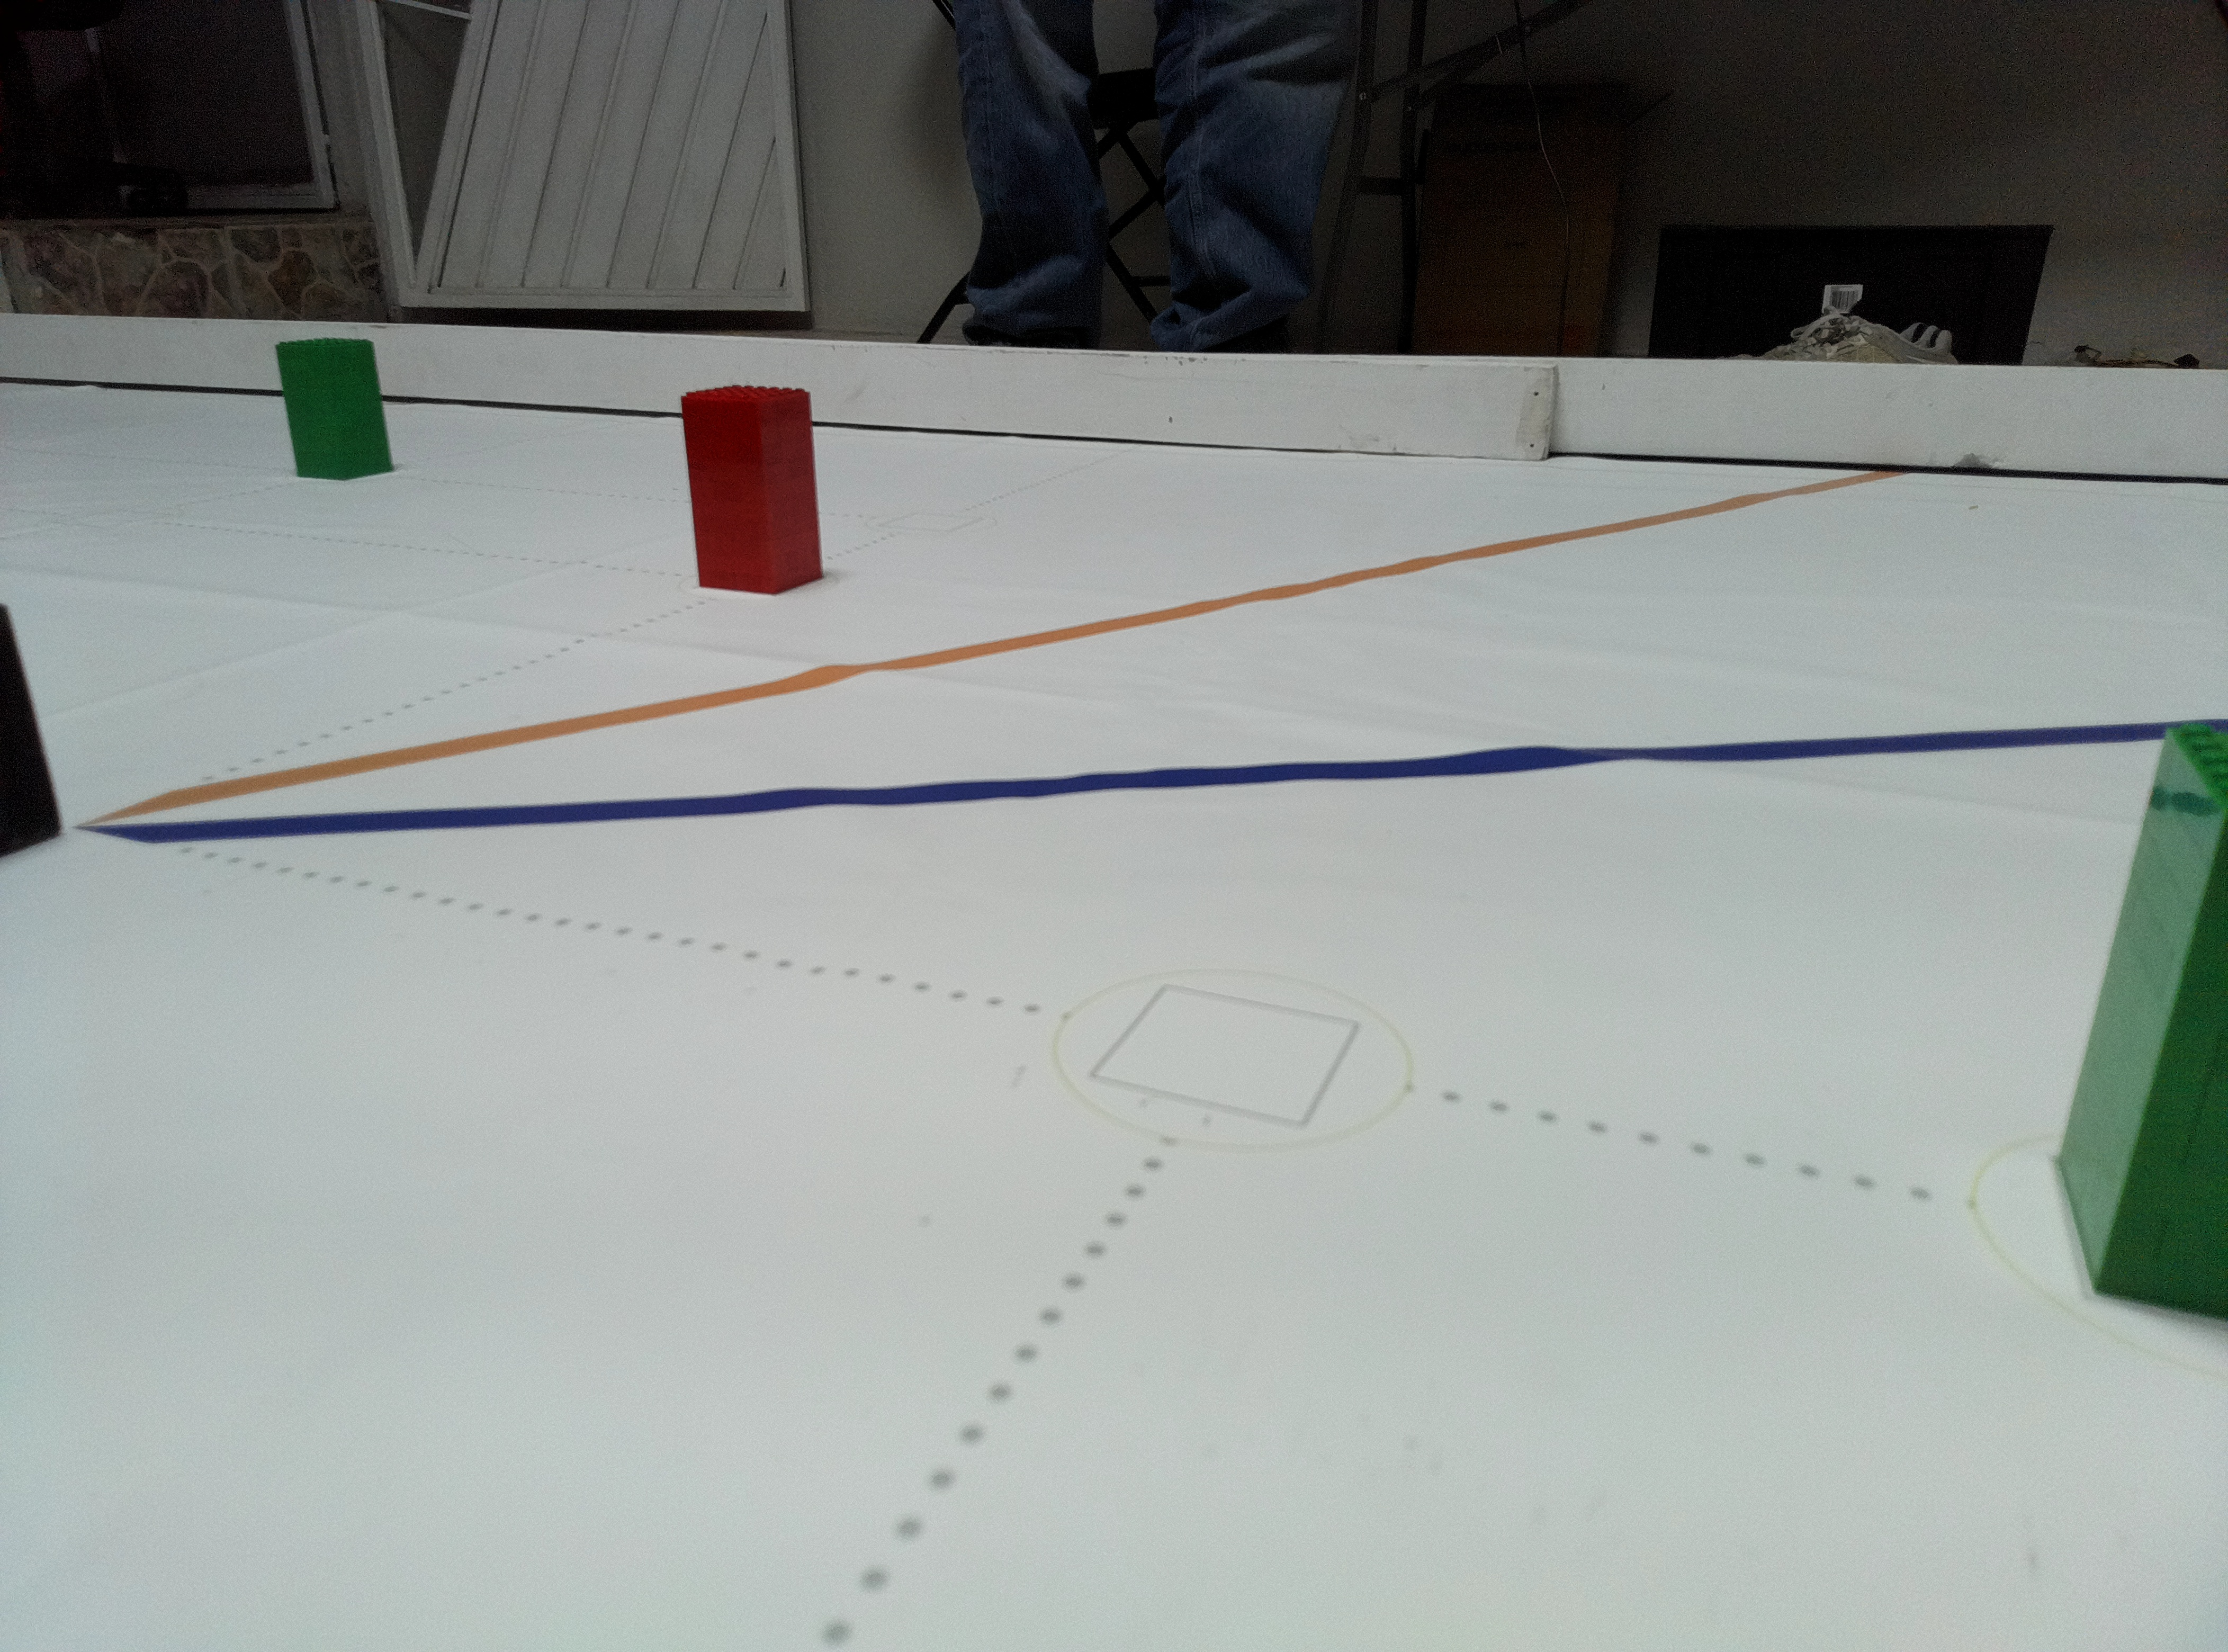greenbox: (2044, 715, 2225, 1314), (274, 337, 394, 488)
redbox: (672, 377, 829, 599)
